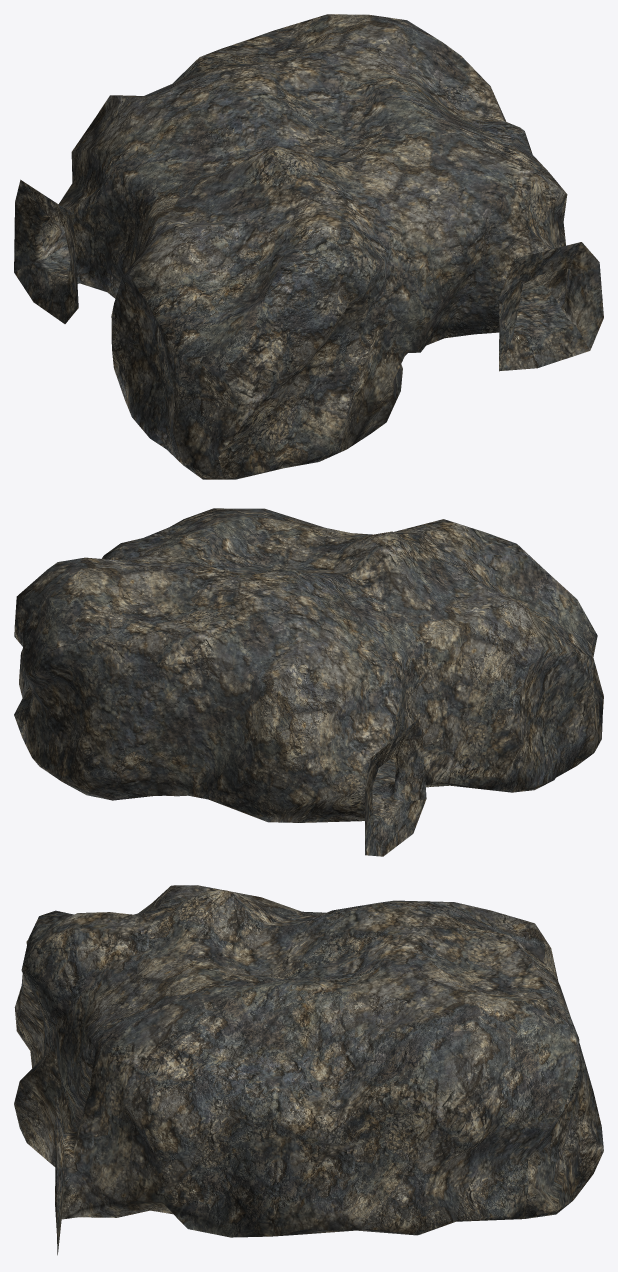
The model's file is Module17_LOD1.fbx.
3 renders of one model, top to bottom at view 1: azimuth 30°, elevation 25°; view 2: azimuth 150°, elevation 25°; view 3: azimuth 270°, elevation 25°, orthographic. The views are drawn at different scales.
Parts seen in each view (by area): view 1: cave_el17_1800:Group53625; view 2: cave_el17_1800:Group53625; view 3: cave_el17_1800:Group53625.
Part boxes in pixels (bbox=[...]): cave_el17_1800:Group53625: bbox=[14, 14, 603, 479]; cave_el17_1800:Group53625: bbox=[14, 508, 603, 856]; cave_el17_1800:Group53625: bbox=[14, 885, 603, 1255].
Size of the model in its own units: 36.64 by 19.78 by 36.12.
